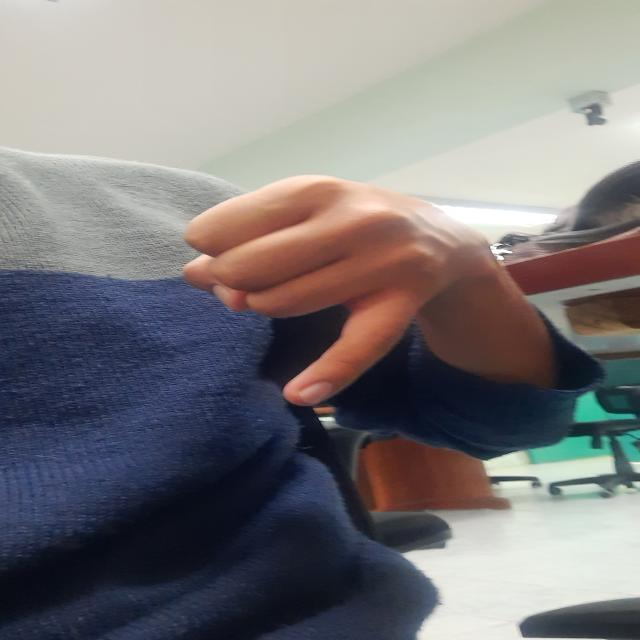J: (150, 169, 498, 406)
